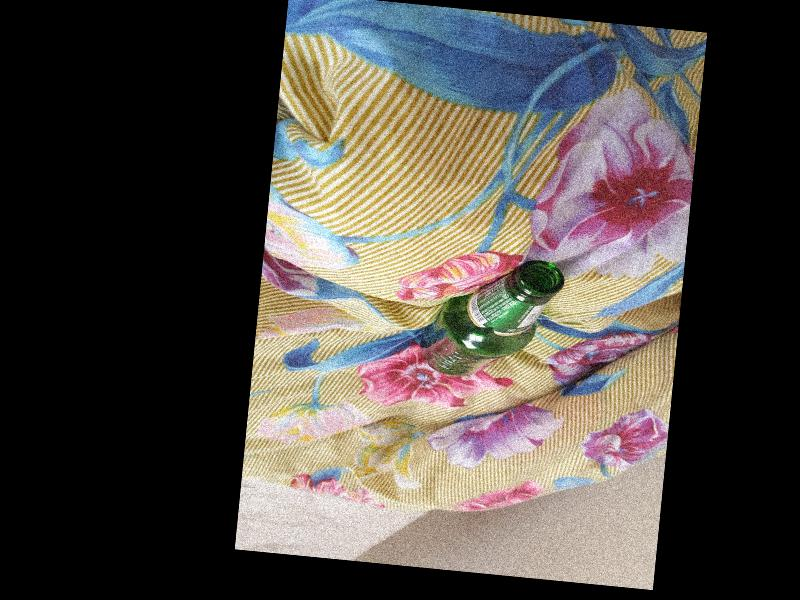Beer: (417, 248, 567, 385)
